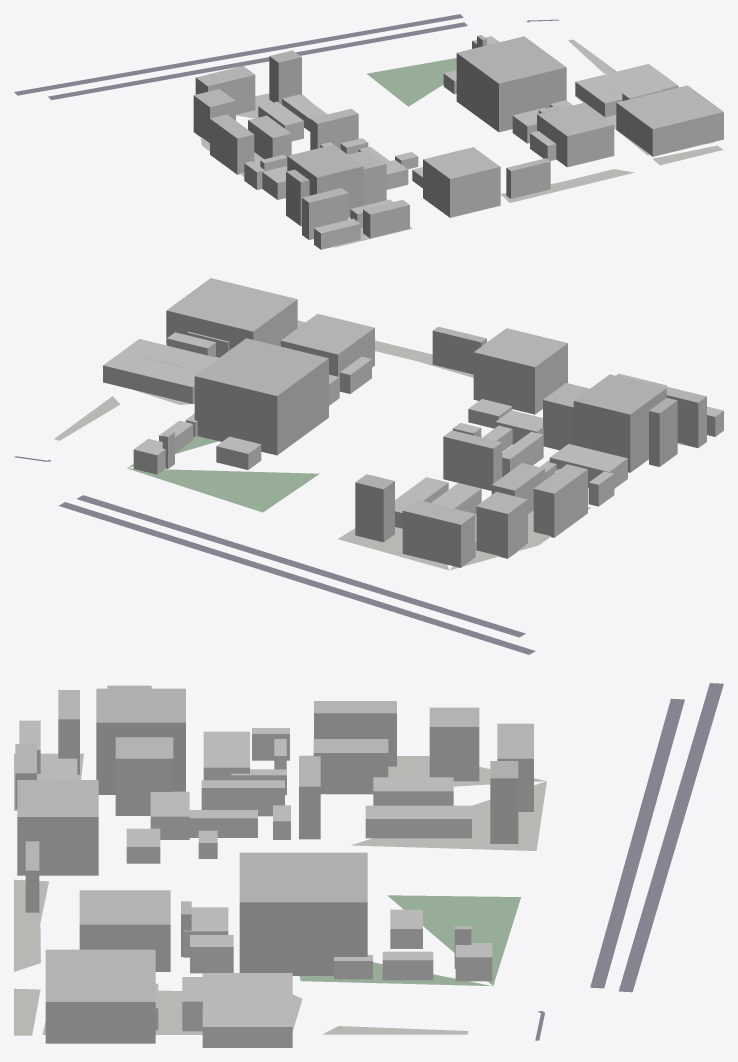
The model's file is 126_87_mid.glb.
3 renders of one model, top to bottom at view 1: azimuth 30°, elevation 25°; view 2: azimuth 150°, elevation 25°; view 3: azimuth 270°, elevation 25°, orthographic. The views are drawn at different scales.
Size of the model in its own units: 634 by 63.31 by 524.
